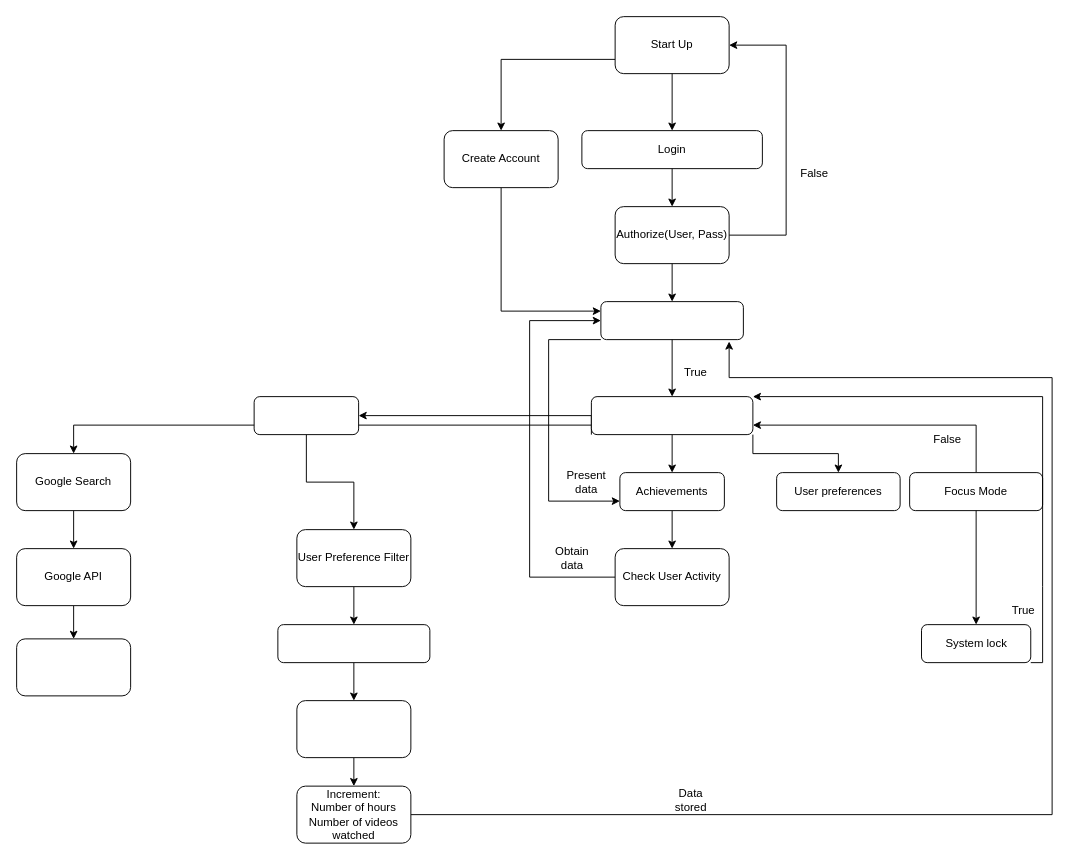
Some shapes in this 1076 by 860 pixel diagram are drawn without their labels. Each missing label, with the centre of its shape:
"Dashboard" goes at pixel 671 415.
"Tunnel Vision Database" goes at pixel 671 320.
"Video GUI" goes at pixel 353 729.
"Website GUI" goes at pixel 73 667.
"Youtube API" goes at pixel 353 643.
"Youtube Search" goes at pixel 306 415.
